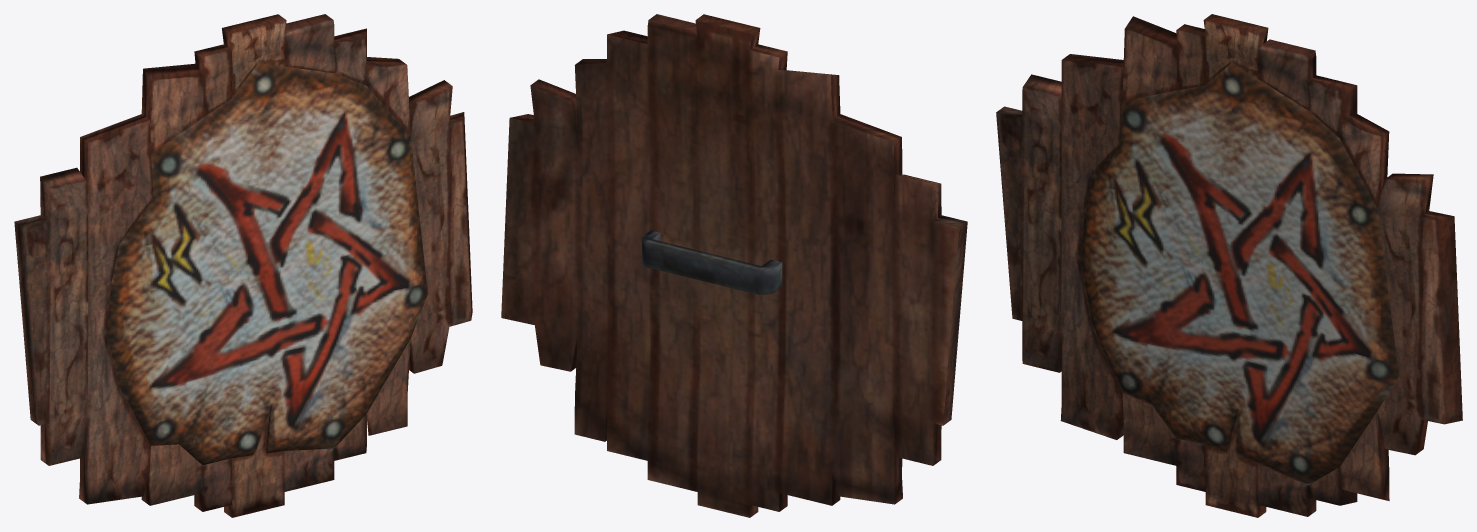
The model's file is Weapon_ImpShield.fbx.
3 views of the same model, side by side, from view 1: azimuth 30°, elevation 25°; view 2: azimuth 150°, elevation 25°; view 3: azimuth 330°, elevation 25° (orthographic).
Parts seen in each view (by area): view 1: Weapon_ImpShield; view 2: Weapon_ImpShield; view 3: Weapon_ImpShield.
Part boxes in pixels (x1,y1,x2,y2): Weapon_ImpShield: (14, 14, 472, 517); Weapon_ImpShield: (501, 14, 967, 517); Weapon_ImpShield: (996, 14, 1462, 517).
Bounding box in the file's own units: 43.28 × 43.72 × 4.19.
